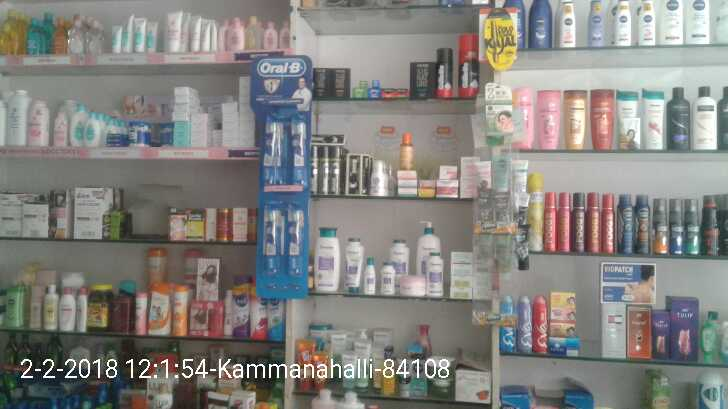beauty: (455, 34, 478, 95), (435, 49, 452, 101)
pharmacy: (283, 116, 310, 188), (285, 210, 307, 285), (266, 116, 286, 186), (267, 205, 278, 267)
